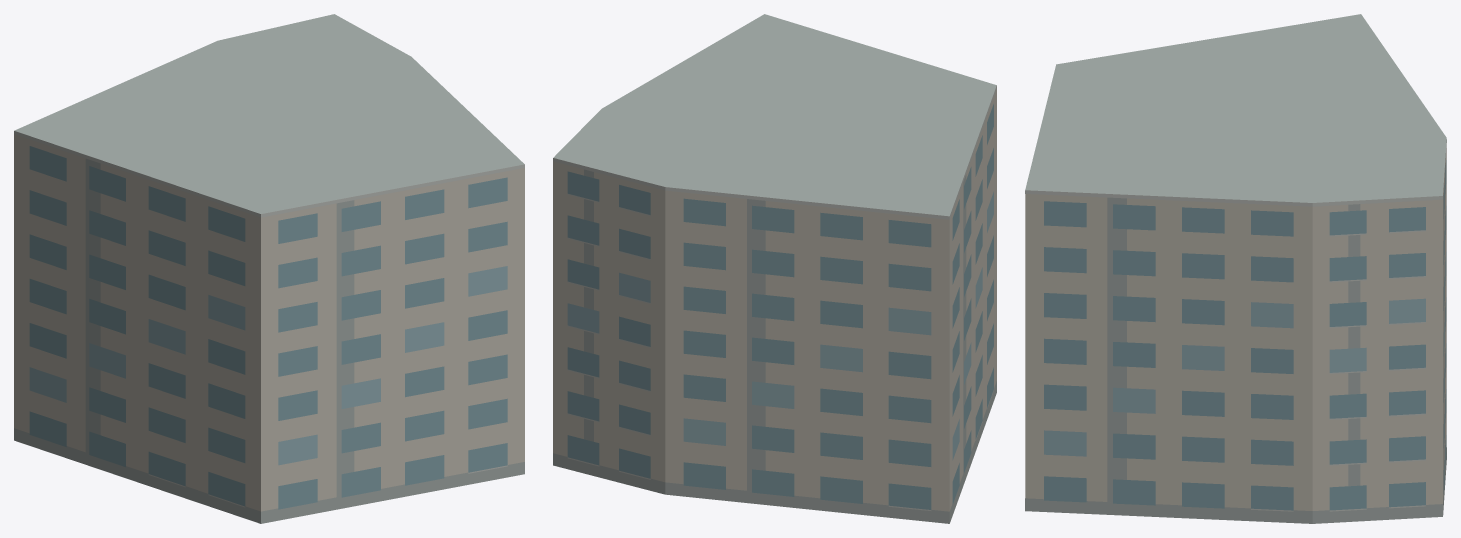
File: residential-0fea671d-3e6e-411e-a3e1-4615469dcc70.glb
The picture shows the model from 3 angles, left to right: view 1: azimuth 30°, elevation 25°; view 2: azimuth 150°, elevation 25°; view 3: azimuth 270°, elevation 25°; orthographic projection. The views are drawn at different scales.
Visible parts, largest first — view 1: residential-0fea671d-3e6e-411e-a3e1-4615469dcc70.tmp; view 2: residential-0fea671d-3e6e-411e-a3e1-4615469dcc70.tmp; view 3: residential-0fea671d-3e6e-411e-a3e1-4615469dcc70.tmp.
Part boxes in pixels (box(x1,y1,x2,y2)): residential-0fea671d-3e6e-411e-a3e1-4615469dcc70.tmp: box(14, 14, 524, 523); residential-0fea671d-3e6e-411e-a3e1-4615469dcc70.tmp: box(553, 14, 996, 523); residential-0fea671d-3e6e-411e-a3e1-4615469dcc70.tmp: box(1025, 14, 1446, 523).
Size of the model in its own units: 26.98 by 21.35 by 25.44.
